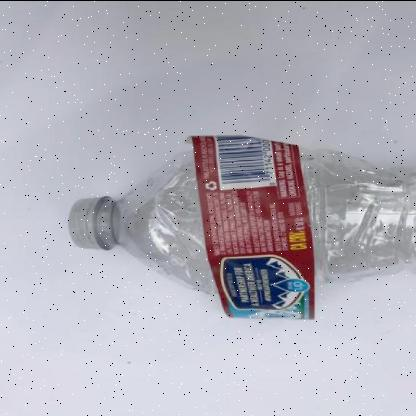Plastic Bottle: (69, 135, 416, 318)
